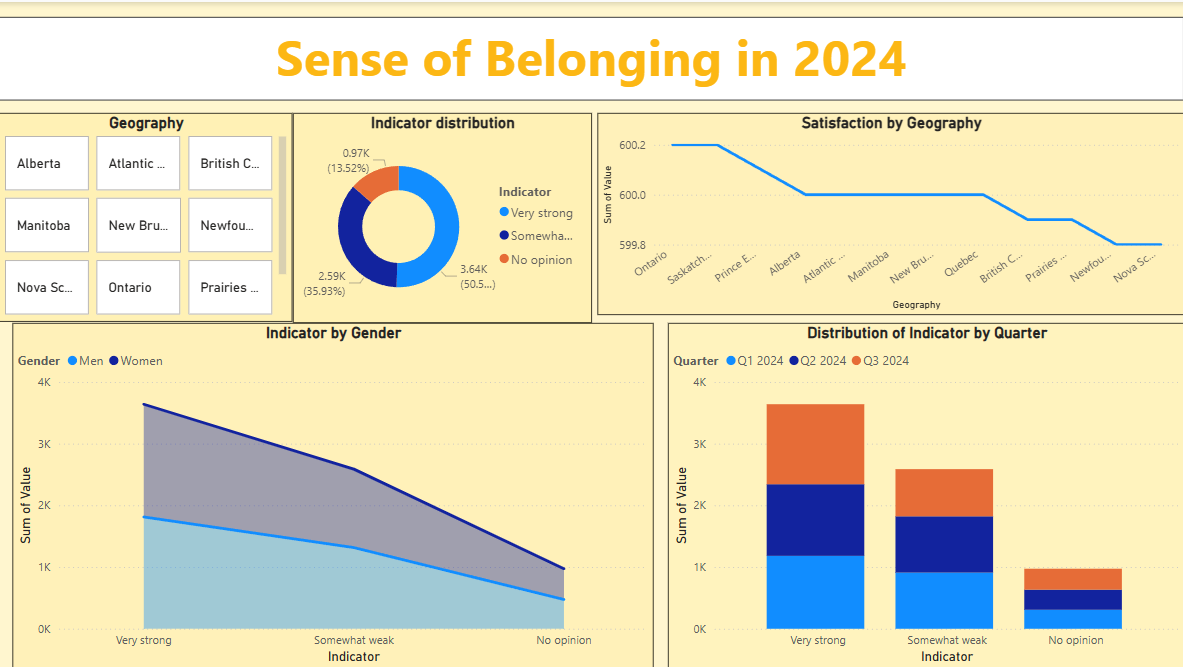

The dashboard page shown, as its layout file describes it:
{"tool":"powerbi","page":{"name":"Sense of belonging","canvas":[1280,720],"ordinal":4},"visuals":[{"type":"advancedSlicerVisual","fields":{"Values":["Sense_of_Belonging_Data.Geography"]},"box":[0,119.4,317,225],"z":0},{"type":"stackedAreaChart","title":"Indicator by Gender","fields":{"Y":["Sum(Sense_of_Belonging_Data.Value)"],"Category":["Sense_of_Belonging_Data.Indicator"],"Series":["Sense_of_Belonging_Data.Gender"]},"box":[14,346,692,374],"z":1000},{"type":"donutChart","title":"Indicator distribution","fields":{"Category":["Sense_of_Belonging_Data.Indicator"],"Y":["Sum(Sense_of_Belonging_Data.Value)"]},"box":[317,119.4,322.5,226.4],"z":2000},{"type":"columnChart","title":"Distribution of Indicator by Quarter","fields":{"Y":["Sum(Sense_of_Belonging_Data.Value)"],"Category":["Sense_of_Belonging_Data.Indicator"],"Series":["Sense_of_Belonging_Data.Quarter"]},"box":[721.8,345.8,558.5,374.6],"z":3000},{"type":"lineChart","title":"Satisfaction by Geography","fields":{"Y":["Sum(Sense_of_Belonging_Data.Value)"],"Category":["Sense_of_Belonging_Data.Geography"]},"box":[646.3,119.4,634,218.2],"z":4000},{"type":"textbox","box":[0,16,1280,90],"z":5000}]}

Visuals, with their boxes in screenshot pixels (x1, y1, x2, y2), scaled from the page's 1280x720 canvas onto the 1183x667 screenshot:
advancedSlicerVisual - Sense_of_Belonging_Data.Geography: (x1=0, y1=111, x2=293, y2=319)
"Indicator by Gender" stackedAreaChart: (x1=13, y1=321, x2=652, y2=666)
"Indicator distribution" donutChart: (x1=293, y1=111, x2=591, y2=320)
"Distribution of Indicator by Quarter" columnChart: (x1=667, y1=320, x2=1182, y2=666)
"Satisfaction by Geography" lineChart: (x1=597, y1=111, x2=1182, y2=313)
textbox: (x1=0, y1=15, x2=1182, y2=98)
